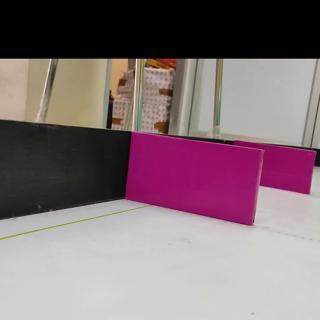xparking: (131, 151, 262, 219), (268, 149, 314, 195)
